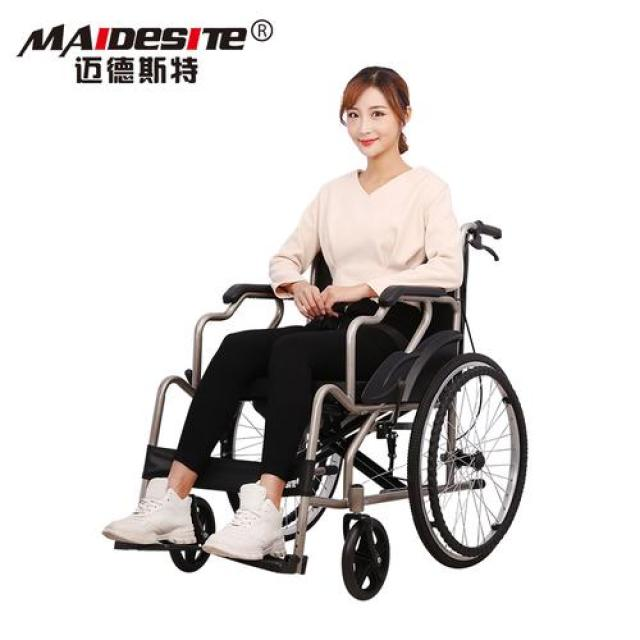wheelchairs: (94, 216, 545, 605)
